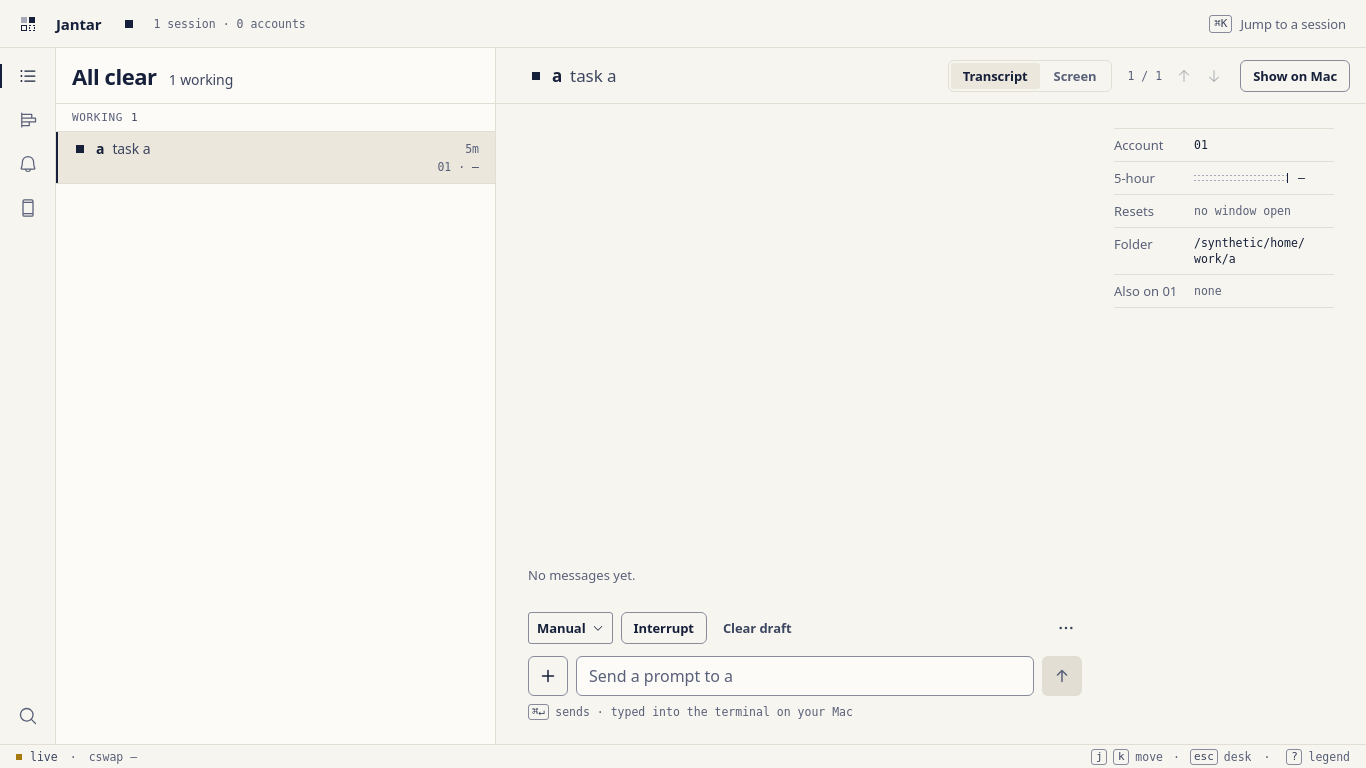
Test: the control bar (C8) › clears the draft in the terminal with one tap
Check: the button with aria-label "Permission mode:" is enabled, box left=528, top=612, right=612, bottom=644
Check: the button named "Commands" is enabled, box left=1050, top=612, right=1082, bottom=644
Click the button with aria-label "Clear draft in the Mac's terminal" at (757, 628), box left=715, top=612, right=799, bottom=644
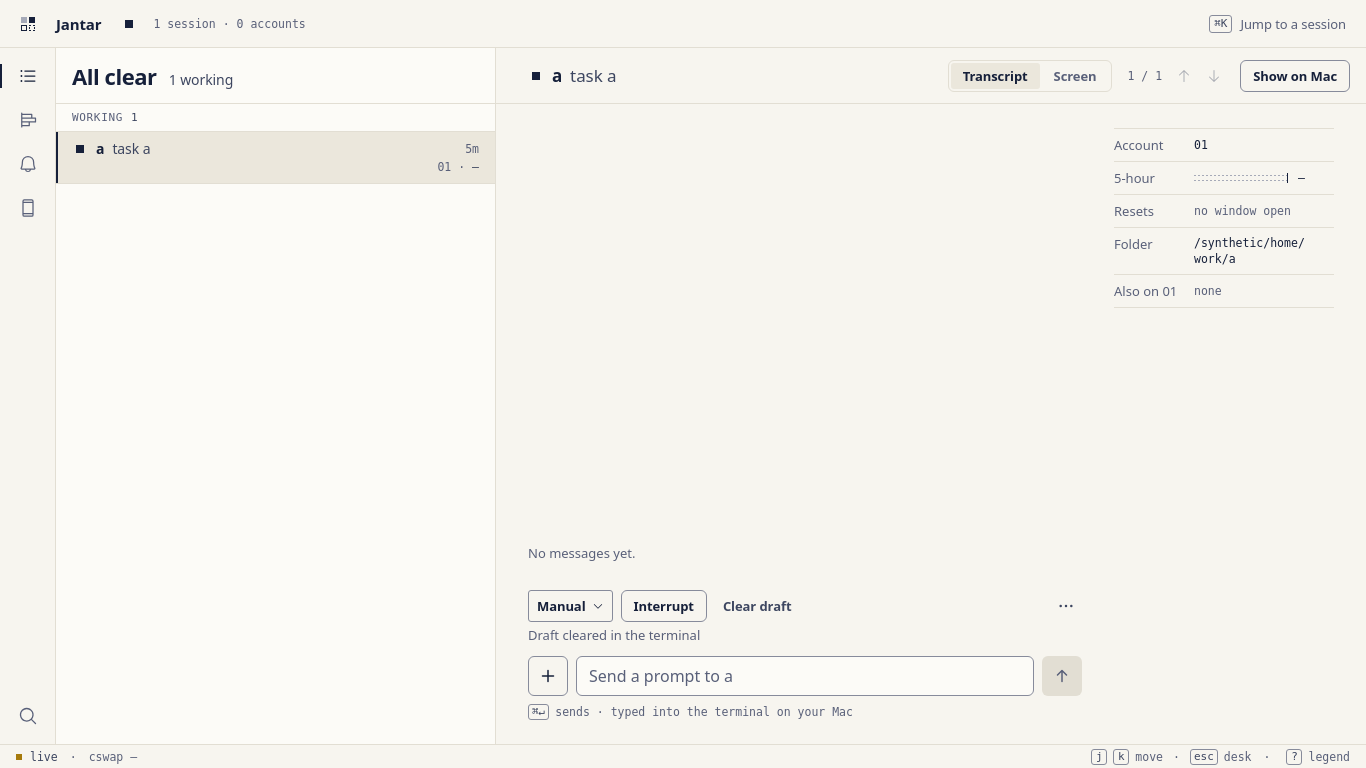
Check: the text "Draft cleared in the terminal" is shown, box left=528, top=626, right=700, bottom=644
